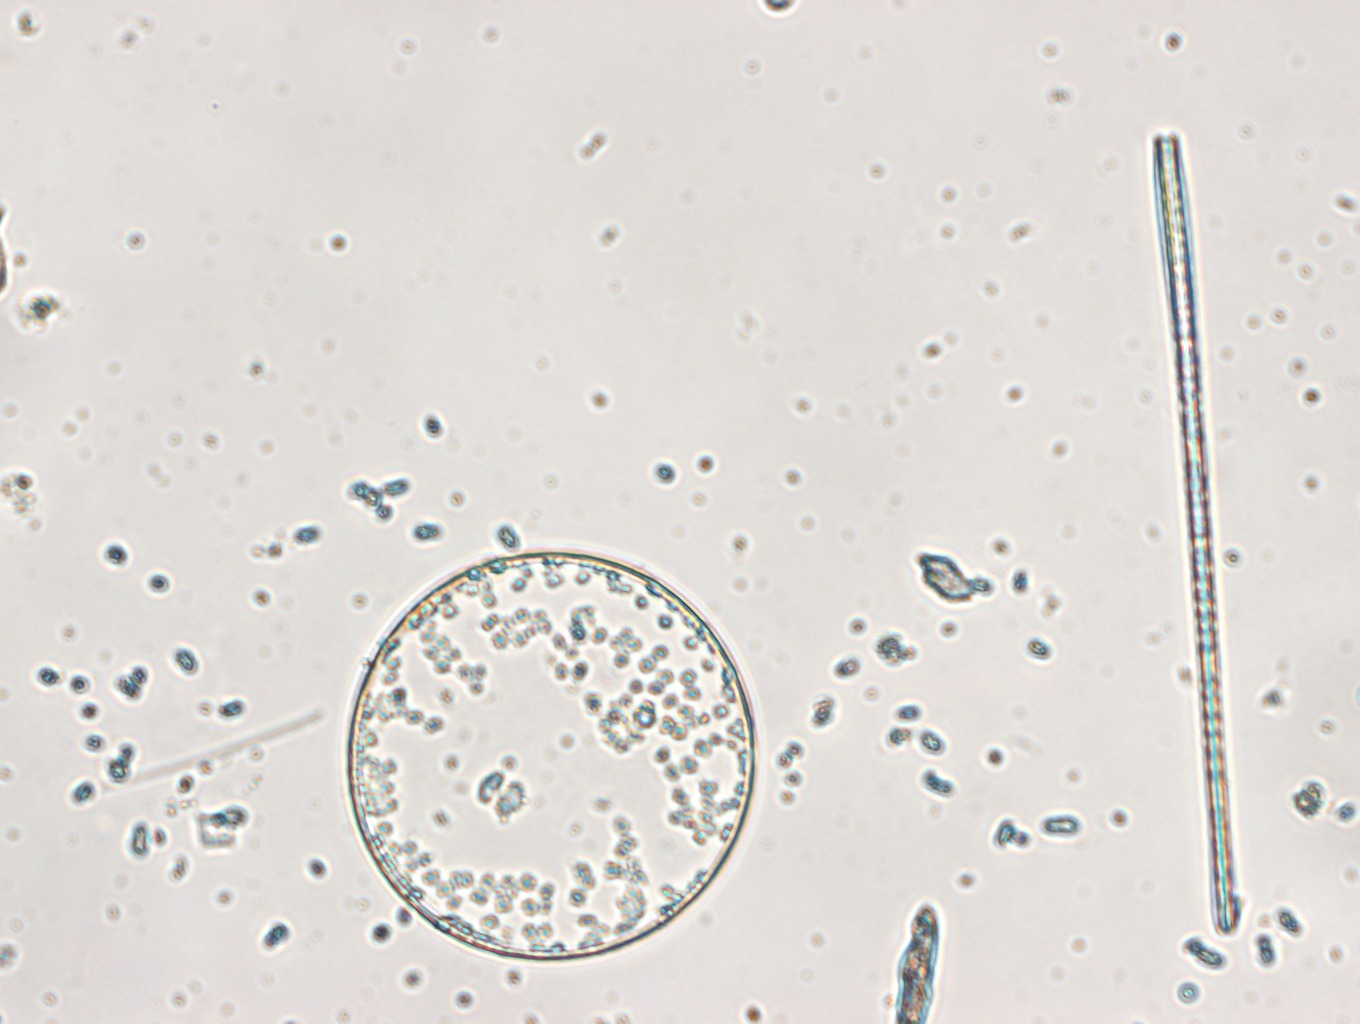coscinodiscus: (343, 547, 757, 963)
thalassionema frauenfeldii: (1153, 132, 1242, 935)
